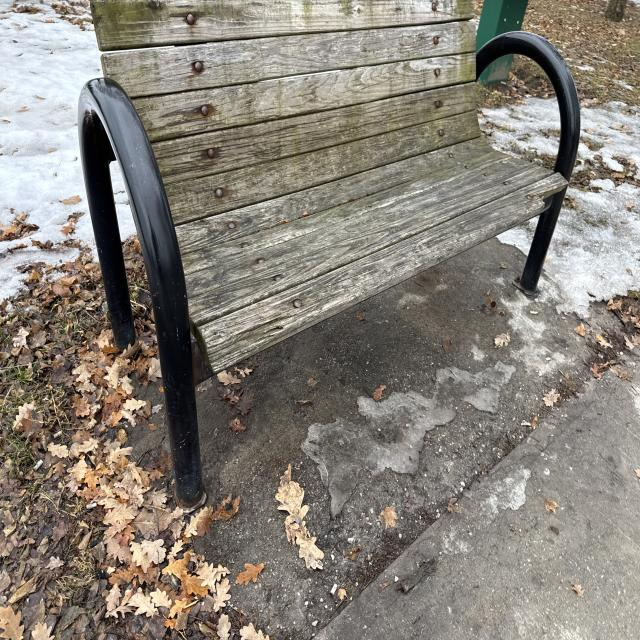Bench: (68, 2, 581, 291), (68, 4, 336, 446)
